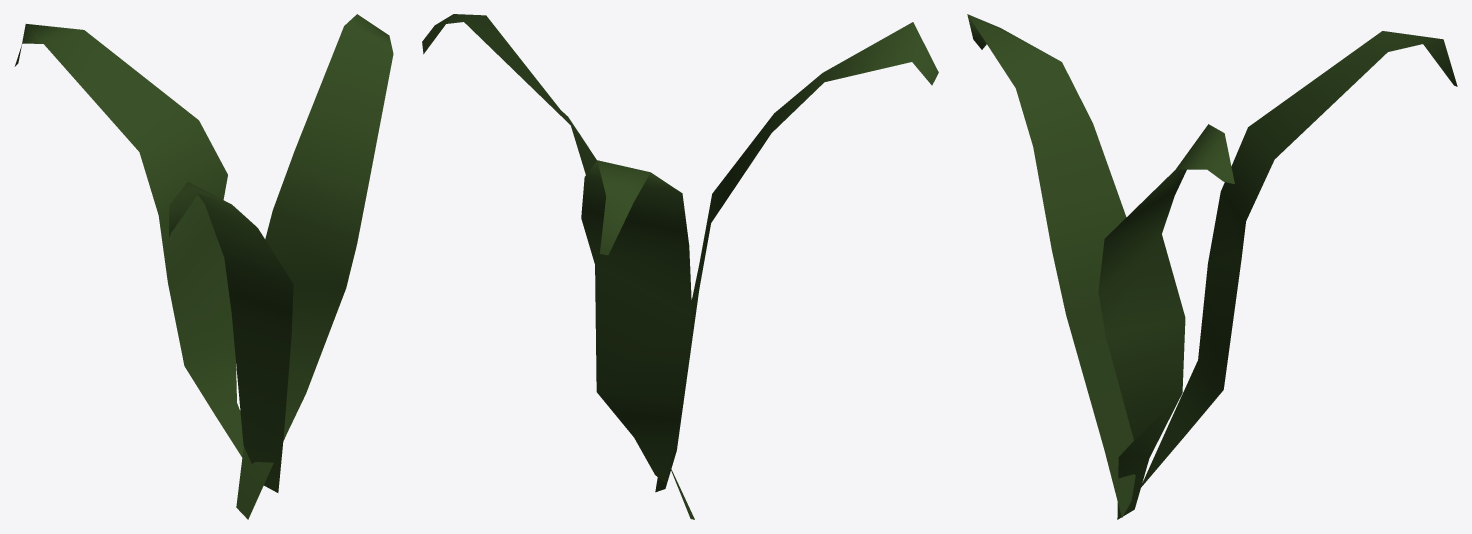
Rendered from SM_Grass_Plant_C.fbx.
3 views of the same model, side by side, from view 1: azimuth 30°, elevation 25°; view 2: azimuth 150°, elevation 25°; view 3: azimuth 270°, elevation 25° (orthographic). The views are drawn at different scales.
Visible parts, largest first — view 1: SM_Grass_plant_C.001; view 2: SM_Grass_plant_C.001; view 3: SM_Grass_plant_C.001.
Boxes of the visible parts, x1,y1,x2,y2 form: SM_Grass_plant_C.001: (14, 14, 393, 519); SM_Grass_plant_C.001: (422, 14, 938, 519); SM_Grass_plant_C.001: (967, 14, 1457, 519).
Size of the model in its own units: 56.28 by 66.61 by 70.57.
